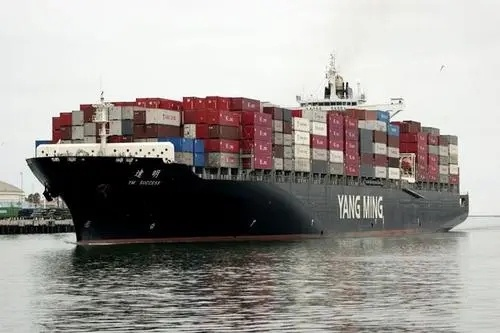Cargoship: (20, 52, 474, 247)
